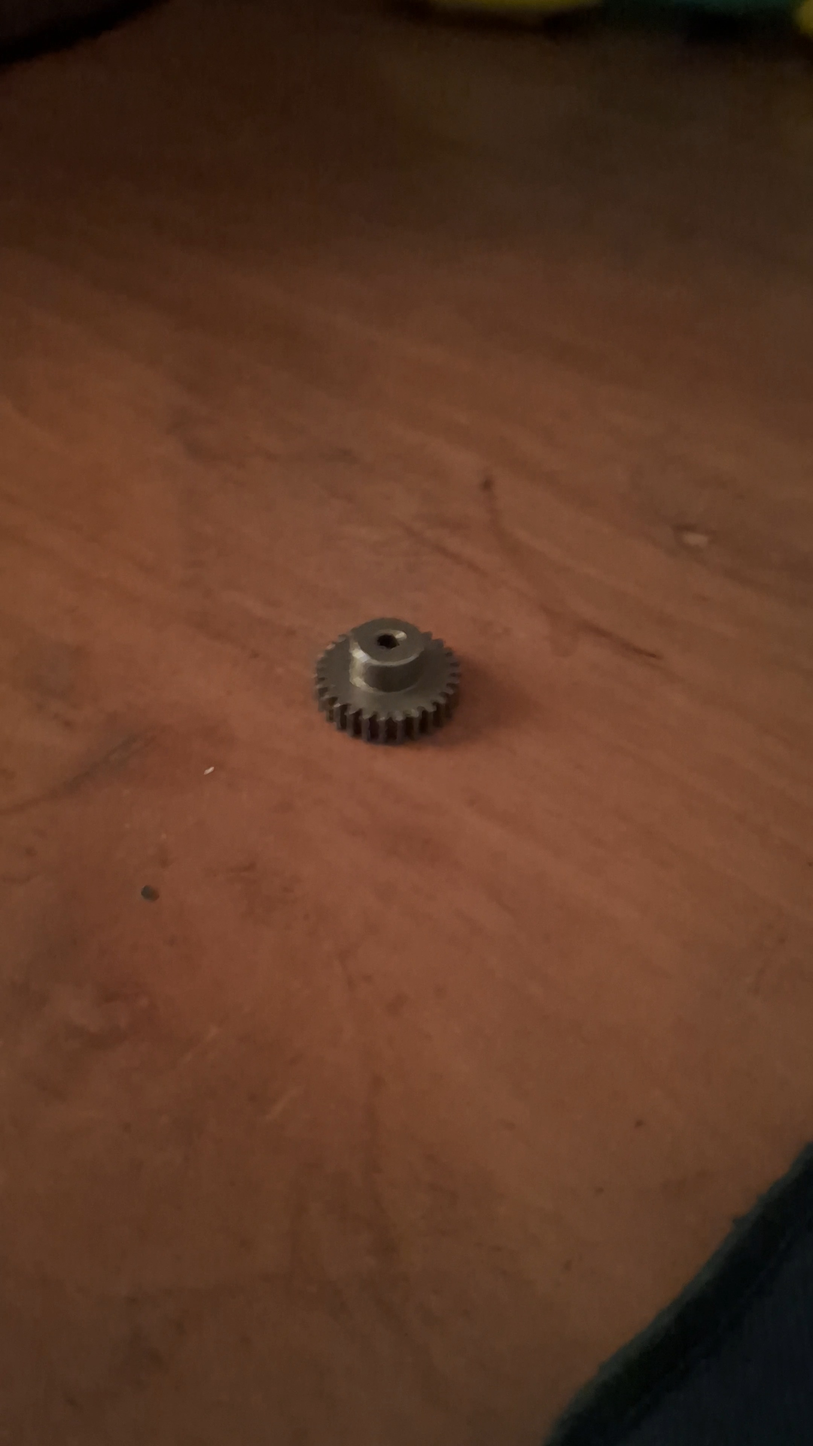spur gear: (315, 618, 459, 743)
